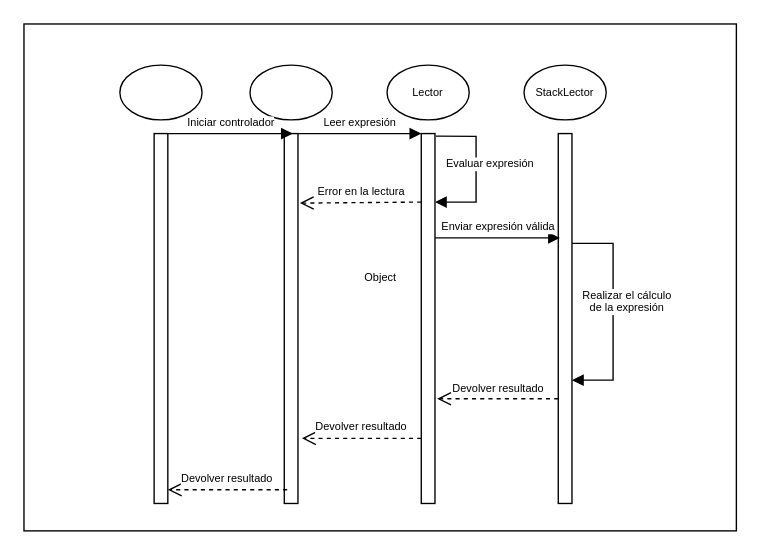
The diagram is 760 pixels wide and 555 high, and some of its shapes have lost their labels. Each missing label, with the box of its shape:
Controlador: (249, 64, 332, 120)
Main: (119, 64, 202, 120)
